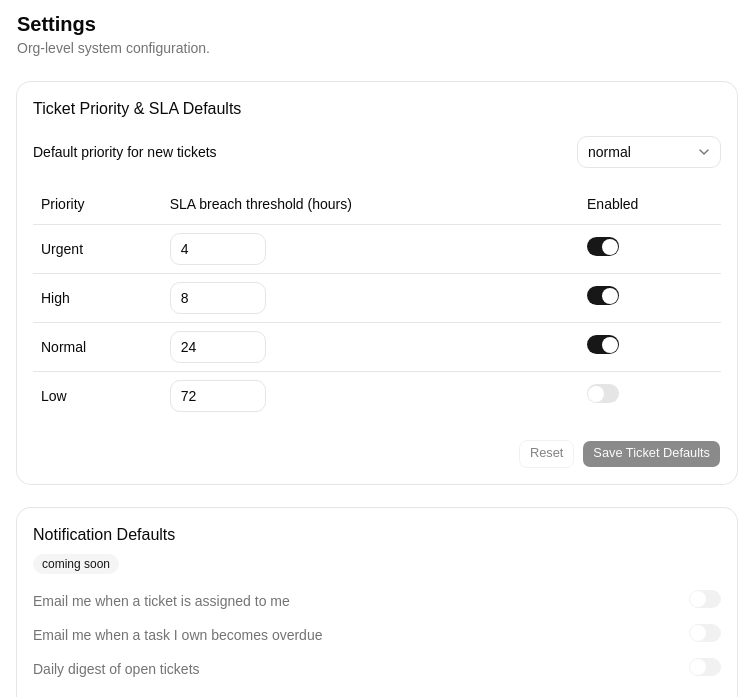
Test: SettingsPage › marks the Ticket card dirty when an SLA enabled switch is toggled
Expected: the text "Default priority for new tickets" is shown, [33,142,217,162]
The first 4 switches belong to the Ticket Defaults table (urgent/high/normal/low).
Click the switch in the row of "urgent" at (603, 247), box [587,237,619,256]
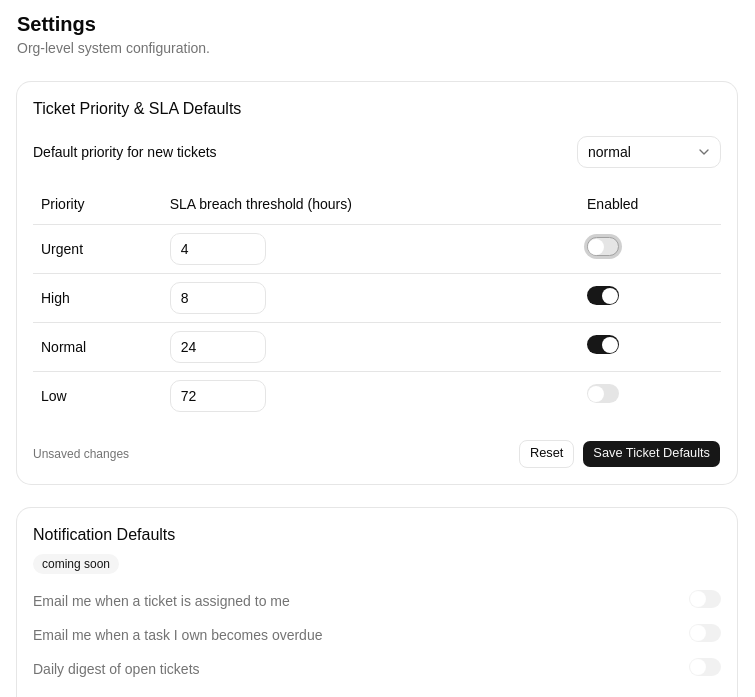
Expected: the text "Unsaved changes" is shown, [33,446,129,462]
